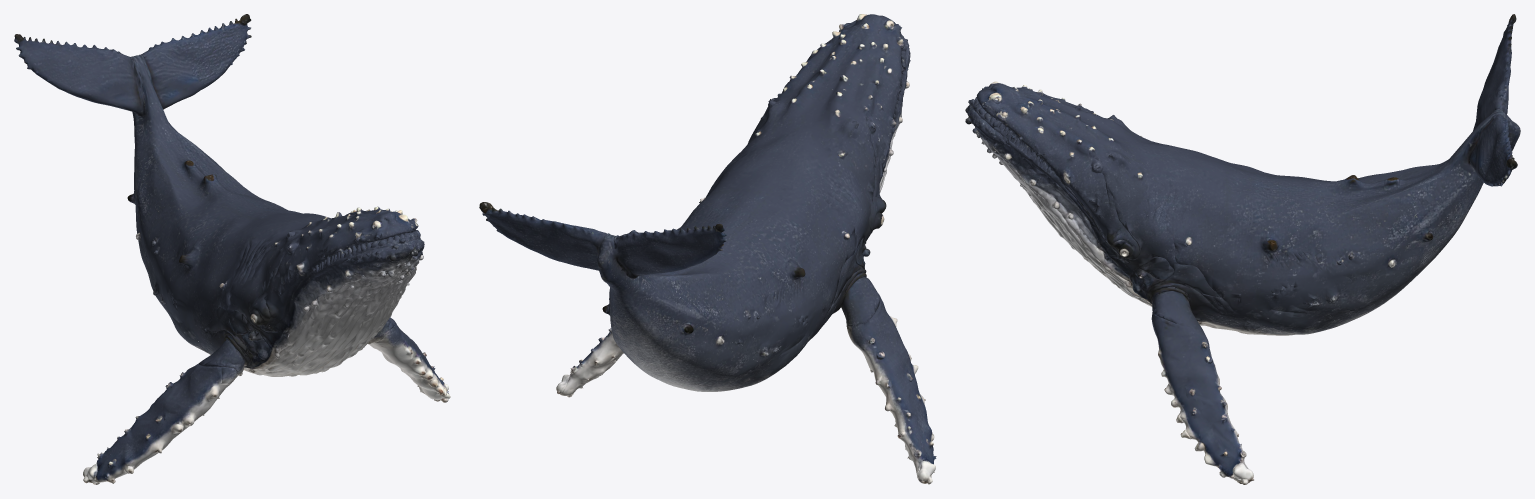
The model's file is whale.glb.
3 renders of one model, left to right at view 1: azimuth 30°, elevation 25°; view 2: azimuth 150°, elevation 25°; view 3: azimuth 270°, elevation 25°, orthographic. The views are drawn at different scales.
Visible parts, largest first — view 1: tripo_node_801c6a9a-c91a-4244-b07e-5c4fed4cb9eb; view 2: tripo_node_801c6a9a-c91a-4244-b07e-5c4fed4cb9eb; view 3: tripo_node_801c6a9a-c91a-4244-b07e-5c4fed4cb9eb.
Boxes of the visible parts, x1,y1,x2,y2 form: tripo_node_801c6a9a-c91a-4244-b07e-5c4fed4cb9eb: (14,14,450,484); tripo_node_801c6a9a-c91a-4244-b07e-5c4fed4cb9eb: (479,14,936,484); tripo_node_801c6a9a-c91a-4244-b07e-5c4fed4cb9eb: (965,14,1520,484).
Bounding box in the file's own units: 0.7301 × 0.6473 × 0.9793.
1 material, 1 textured.
